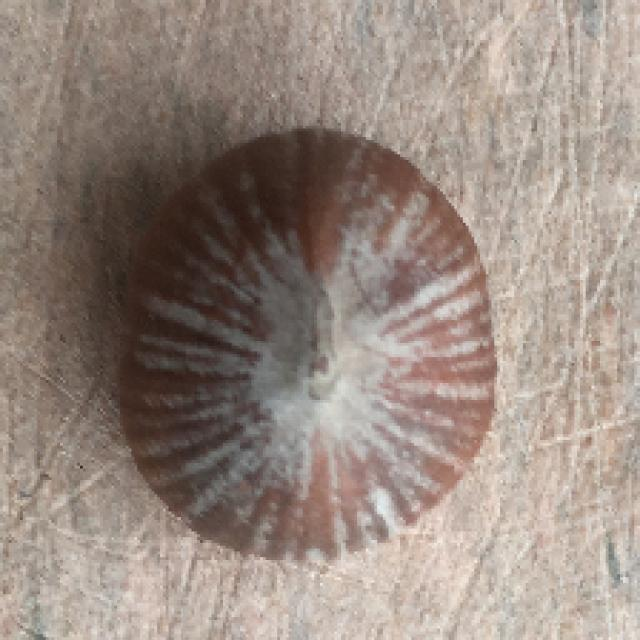DamagedHazelnut: (118, 133, 500, 556)
